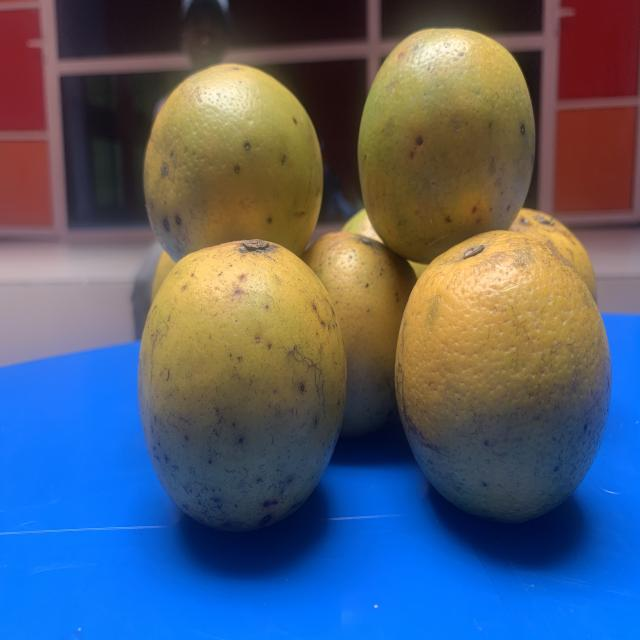Ripe orange: (395, 242, 622, 536), (140, 232, 356, 538), (354, 30, 541, 260), (135, 53, 336, 254)
